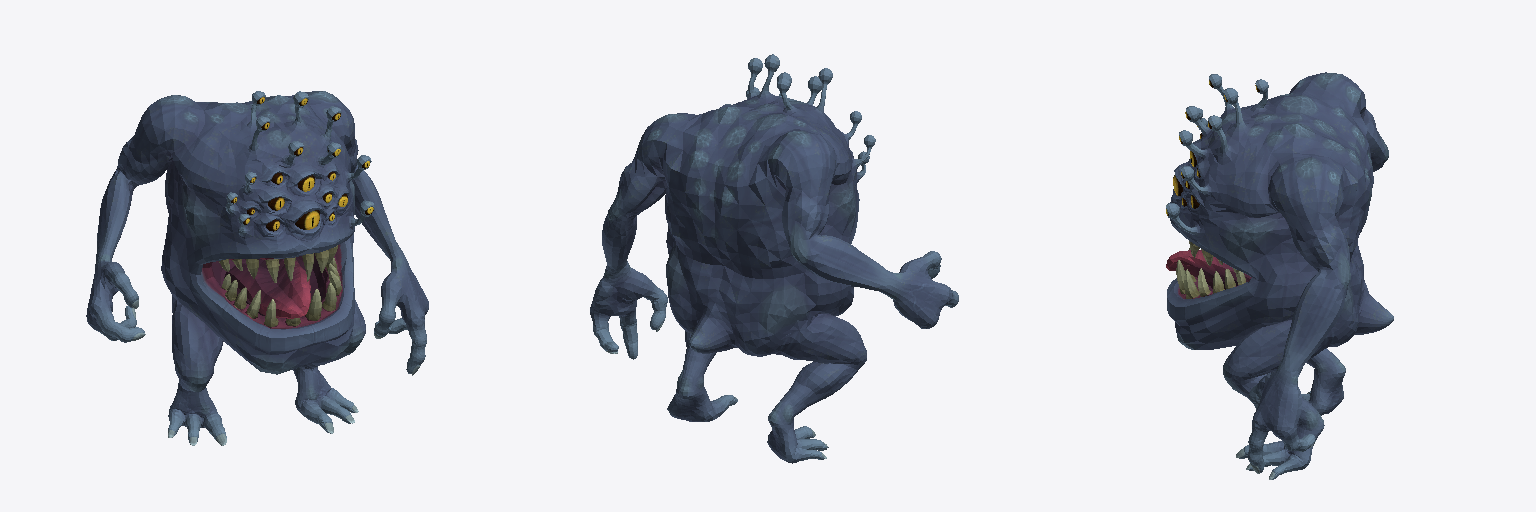
The picture shows the model from 3 angles: view 1: azimuth 30°, elevation 25°; view 2: azimuth 150°, elevation 25°; view 3: azimuth 270°, elevation 25°; orthographic projection.
Parts seen in each view (by area): view 1: Object_2; view 2: Object_2; view 3: Object_2.
Boxes of the visible parts, <box> form: Object_2: <box>86,91,428,445</box>; Object_2: <box>590,54,958,463</box>; Object_2: <box>1166,72,1393,479</box>.
Size of the model in its own units: 1.97 by 1.93 by 1.13.
1 materials, 1 textured.